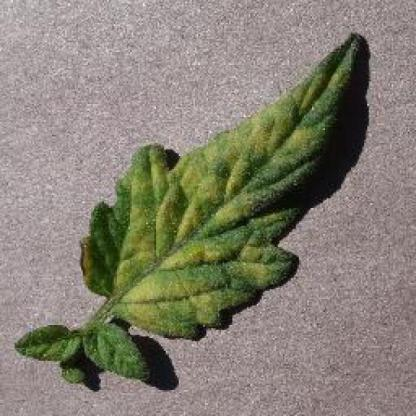Tomato_Leaf_Mold: (76, 32, 362, 338)
